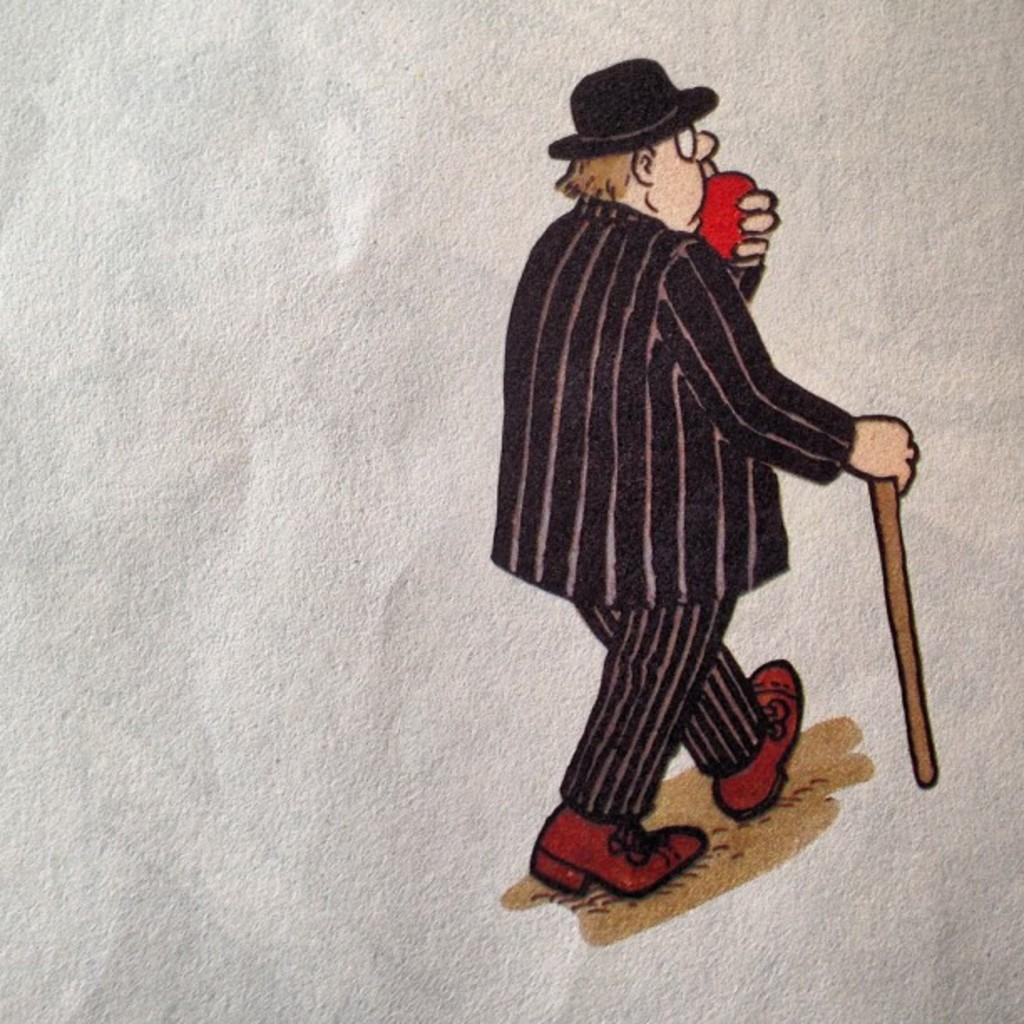Hat: (550, 55, 722, 157)
